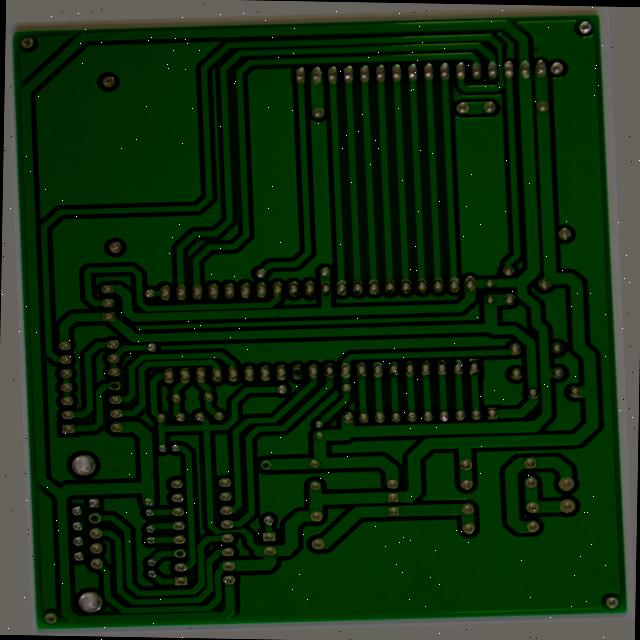missing_hole: (87, 370, 109, 385), (59, 506, 79, 522), (285, 363, 302, 380), (245, 459, 261, 476), (148, 547, 166, 562)
